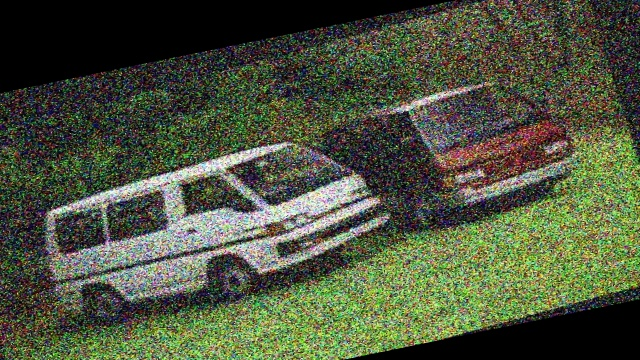van: (21, 117, 400, 352), (313, 56, 588, 247)
